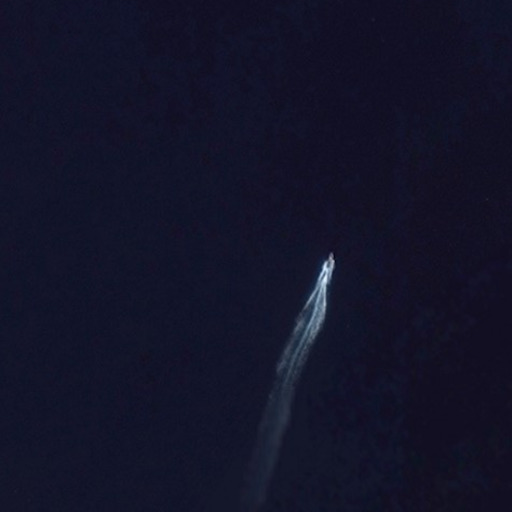ship: (323, 248, 336, 278)
